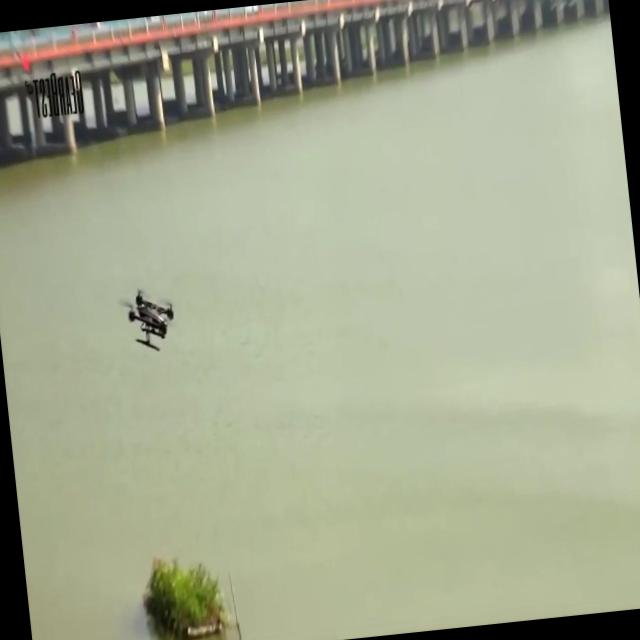drone: (118, 281, 178, 357)
